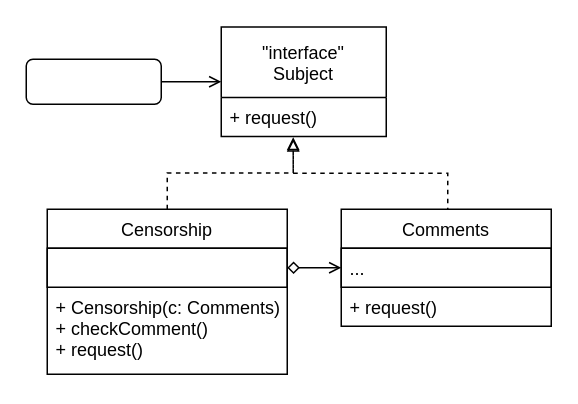
Some shapes in this 578 by 404 pixel diagram are drawn without their labels. Here are the shapes that lost their labels. From the top down, the centre of each, then its label:
point 93,81: Client
point 166,267: - comments: Comments
